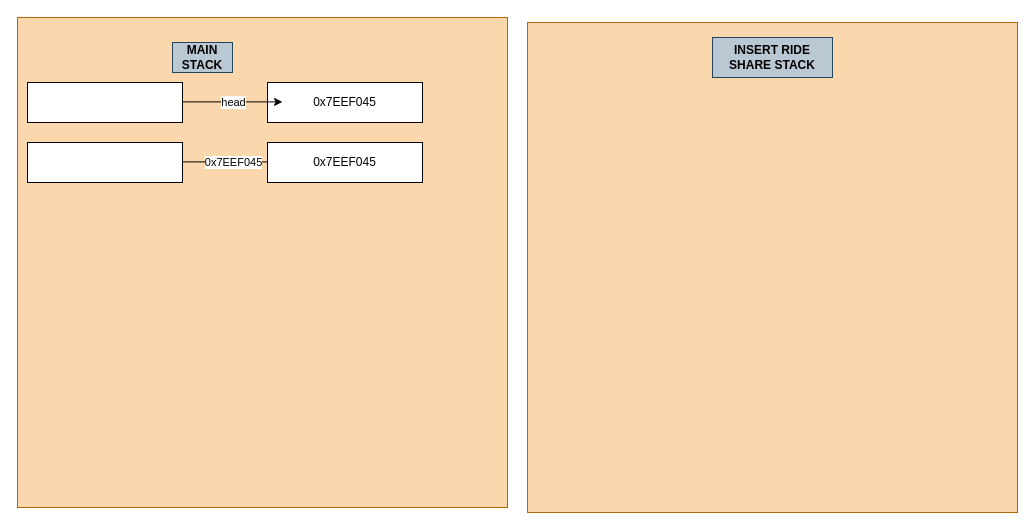
Image size: 1035x530. Some labels were removed from this diagram. The shapes that lost their labels are listed below. From the top down, each one's box as (x1, y1, x2, y2) in pixels, then its label:
(26, 82, 182, 122): RideShare *head = NULL
(26, 142, 182, 182): insertRideShare(&head);
